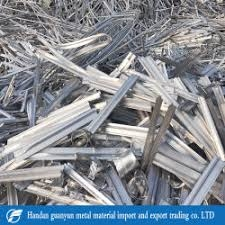metal: (1, 96, 95, 165), (1, 21, 113, 78), (126, 91, 180, 204), (79, 67, 148, 135), (177, 143, 225, 207), (61, 154, 120, 205), (1, 159, 69, 187)
